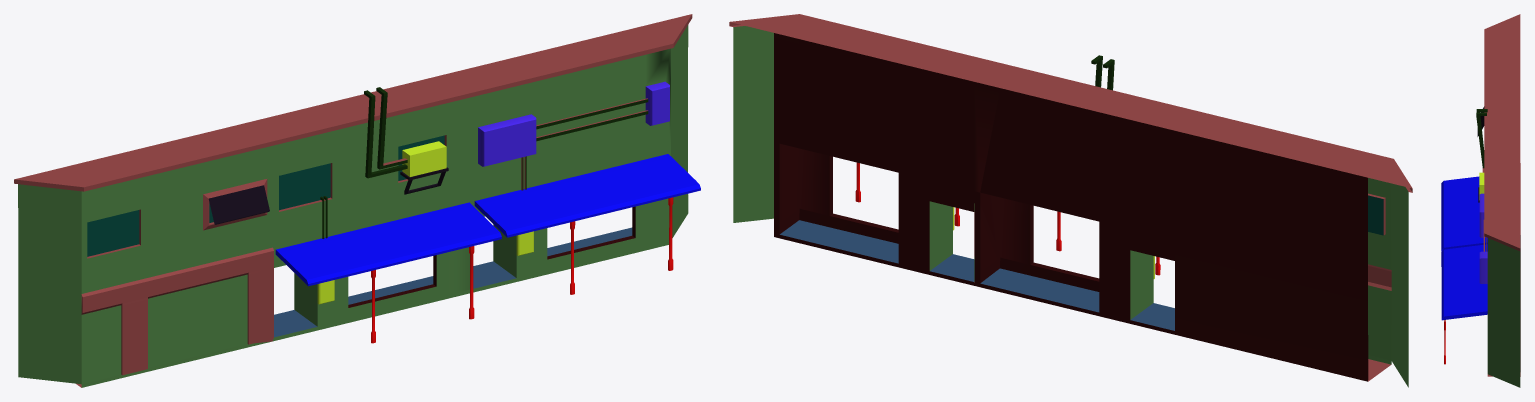
File: storeFront_3.FBX
The picture shows the model from 3 angles, left to right: view 1: azimuth 30°, elevation 25°; view 2: azimuth 150°, elevation 25°; view 3: azimuth 270°, elevation 25°; orthographic projection. The views are drawn at different scales.
Parts seen in each view (by area): view 1: wall__tunnel_Corner005; view 2: wall__tunnel_Corner005; view 3: wall__tunnel_Corner005.
Part boxes in pixels (box(x1,y1,x2,y2)): wall__tunnel_Corner005: box(14, 14, 700, 387); wall__tunnel_Corner005: box(729, 14, 1412, 387); wall__tunnel_Corner005: box(1441, 14, 1520, 387).
Size of the model in its own units: 818 by 263 by 116.
